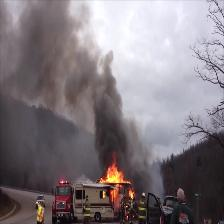fire: (100, 165, 129, 185)
smoke: (25, 1, 93, 91), (93, 91, 123, 163)
